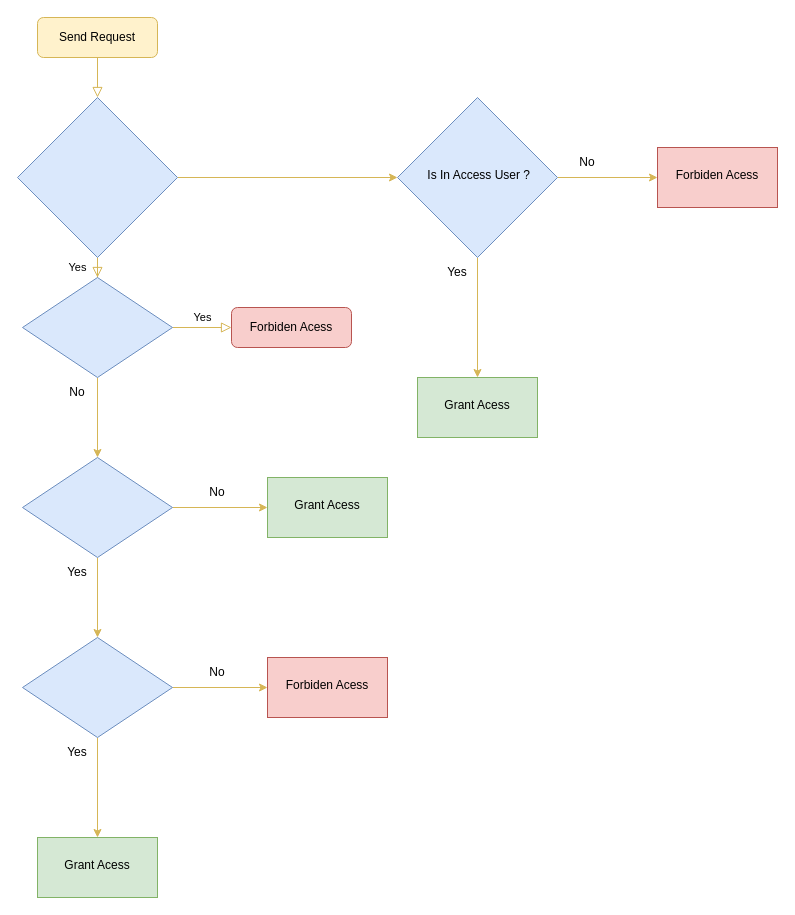
The diagram is 795 pixels wide and 915 high, and some of its shapes have lost their labels. Here are the shapes that lost their labels. From the top down, the centre of each, then its label:
At (x=97, y=177): "Have Enough Role".
At (x=97, y=327): "Is Baned User".
At (x=97, y=507): "This Action Has Policy ?".
At (x=97, y=687): "Can Get Acess From Policy ?".
